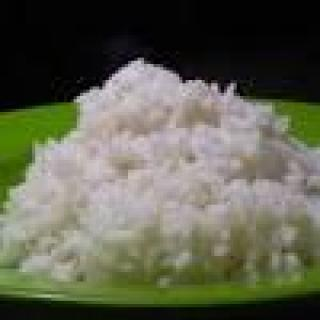Nasi: (1, 55, 318, 286)
